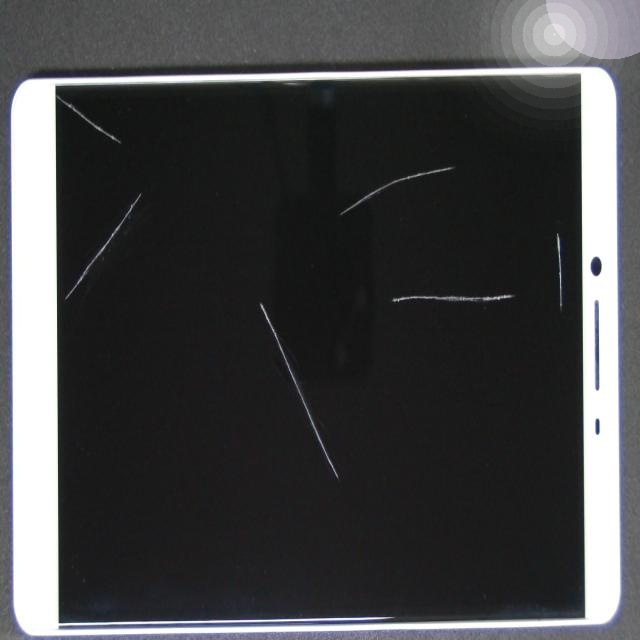scratch: (112, 40, 412, 532), (309, 40, 639, 232)
